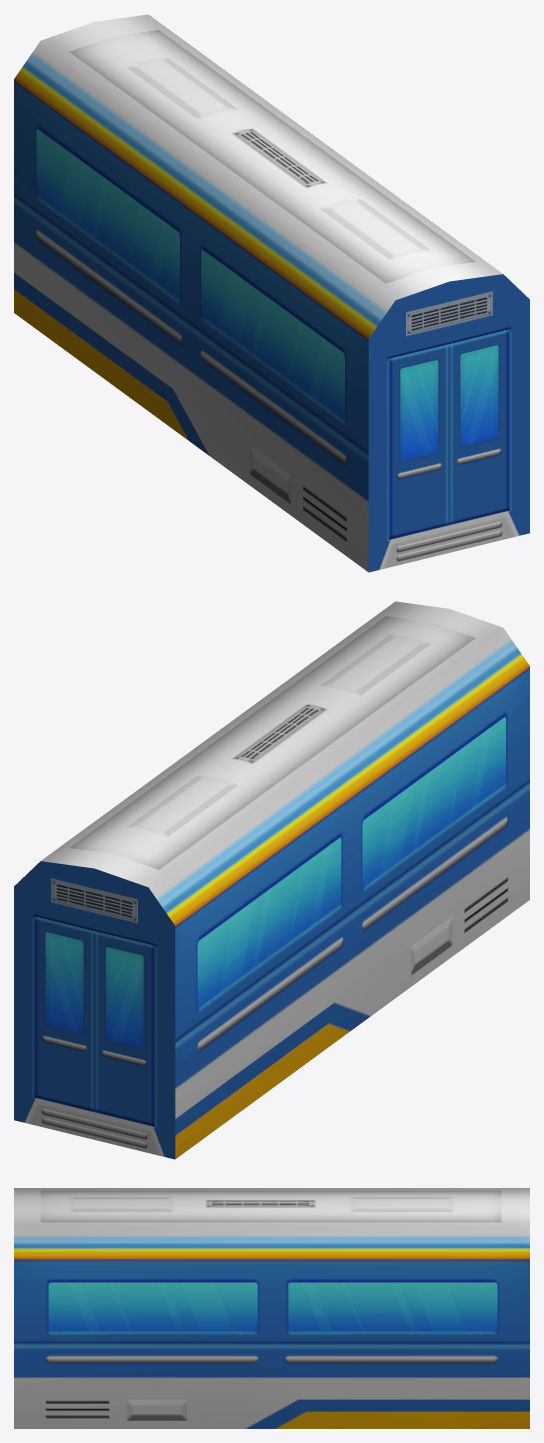
File: Train_Blue.fbx
The picture shows the model from 3 angles, top to bottom: view 1: azimuth 30°, elevation 25°; view 2: azimuth 150°, elevation 25°; view 3: azimuth 270°, elevation 25°; orthographic projection. The views are drawn at different scales.
Visible parts, largest first — view 1: Train_Blue; view 2: Train_Blue; view 3: Train_Blue.
Boxes of the visible parts, bbox=[...] form: Train_Blue: bbox=[14, 14, 529, 572]; Train_Blue: bbox=[14, 601, 529, 1159]; Train_Blue: bbox=[14, 1188, 529, 1428].
Size of the model in its own units: 482 by 775 by 1838.
